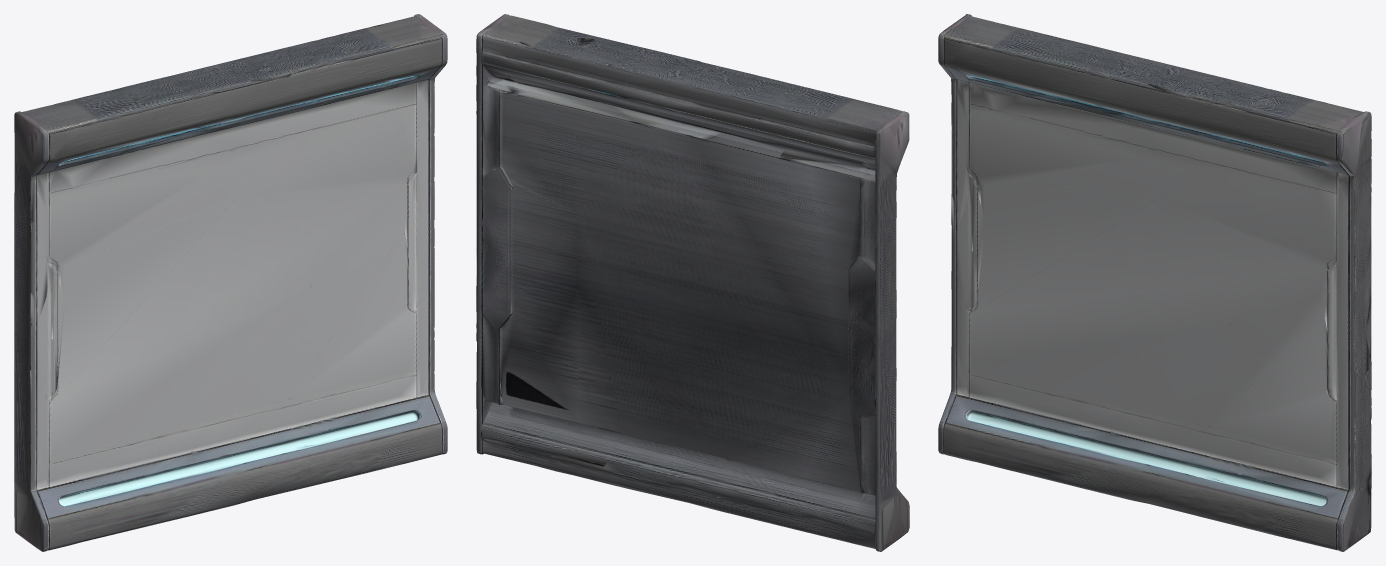
File: wall-simple.glb
3 views of the same model, side by side, from view 1: azimuth 30°, elevation 25°; view 2: azimuth 150°, elevation 25°; view 3: azimuth 330°, elevation 25° (orthographic).
Parts seen in each view (by area): view 1: Mesh_0.001; view 2: Mesh_0.001; view 3: Mesh_0.001.
Boxes of the visible parts, x1,y1,x2,y2 form: Mesh_0.001: (14,14,447,551); Mesh_0.001: (476,14,909,551); Mesh_0.001: (938,14,1371,551).
Size of the model in its own units: 2.01 by 2 by 0.2603.
Materials: 1 (1 with a texture image).
